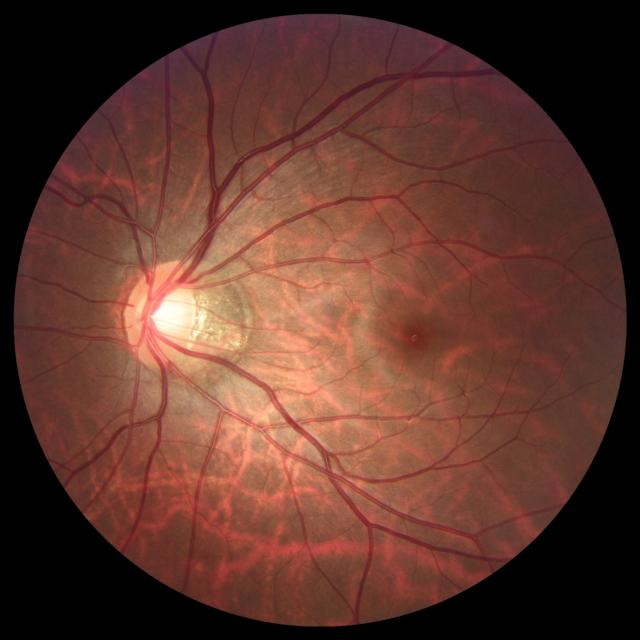OC: (133, 283, 187, 344)
OD: (122, 261, 198, 363)
